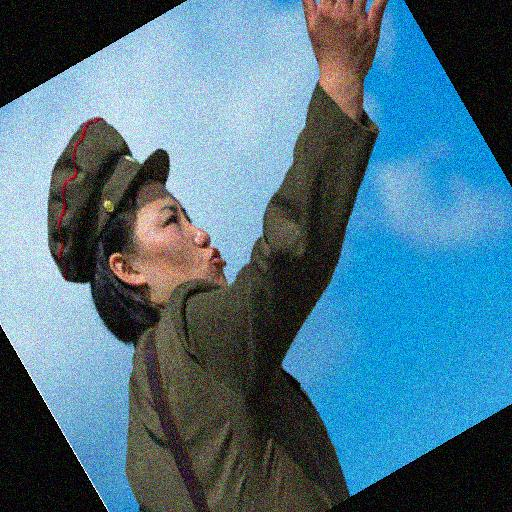north army: (12, 61, 430, 512)
